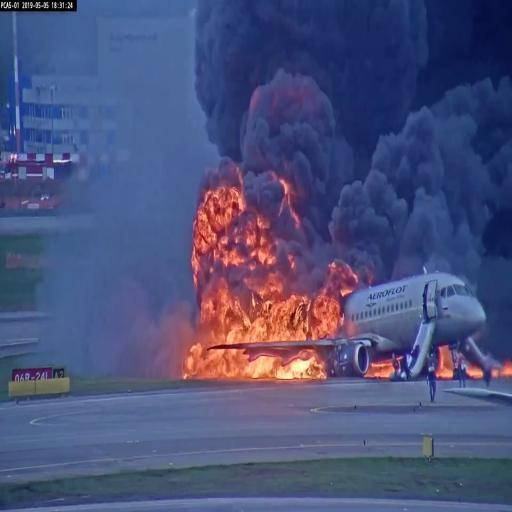fire: (239, 300, 332, 343), (190, 356, 326, 380)
smoke: (338, 86, 500, 275), (244, 72, 352, 214)
